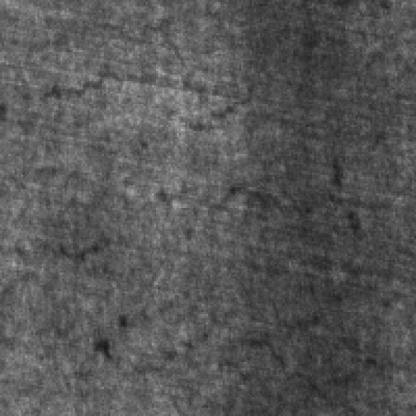crazing: (42, 62, 345, 216), (91, 299, 360, 391)
